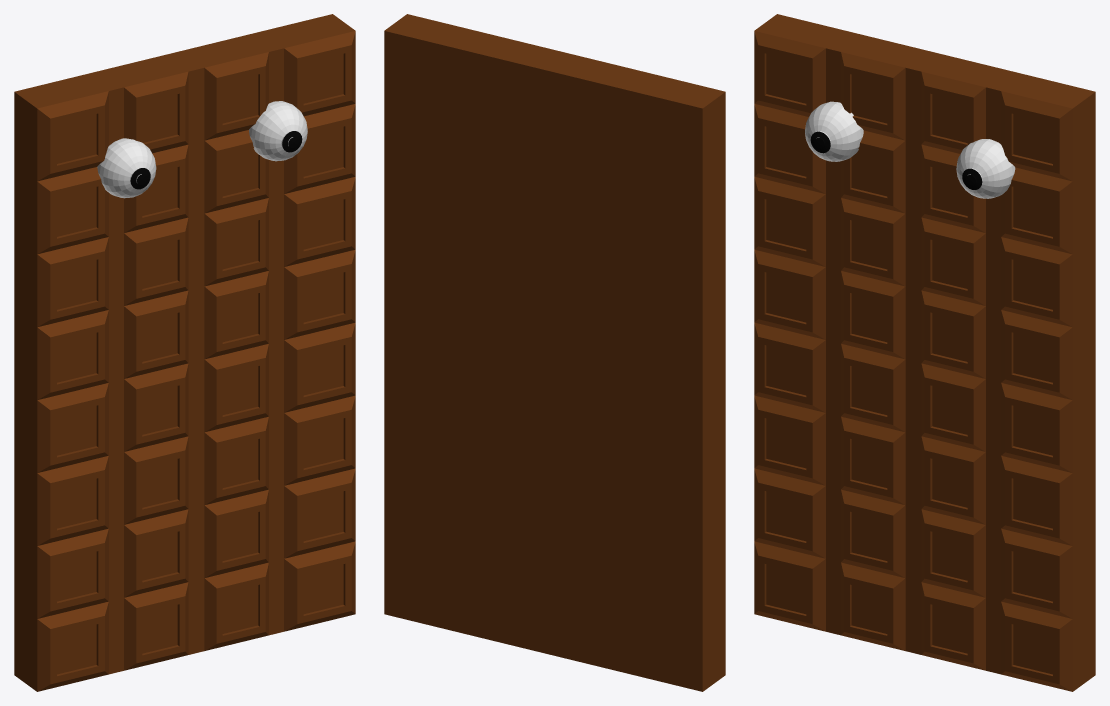
File: SweetTreatPass-Relic.glb
3 views of the same model, side by side, from view 1: azimuth 30°, elevation 25°; view 2: azimuth 150°, elevation 25°; view 3: azimuth 330°, elevation 25° (orthographic).
Parts seen in each view (by area): view 1: Chocolate_1, object 2, object 3; view 2: Chocolate_1; view 3: Chocolate_1, object 3, object 2.
Boxes of the visible parts, <box> form: Chocolate_1: <box>14,14,355,691</box>; object 2: <box>97,138,156,198</box>; object 3: <box>249,101,307,161</box>; Chocolate_1: <box>384,14,725,691</box>; Chocolate_1: <box>754,14,1095,691</box>; object 3: <box>956,139,1015,198</box>; object 2: <box>805,101,863,161</box>.
Size of the model in its own units: 5.6 by 9.8 by 1.31.
